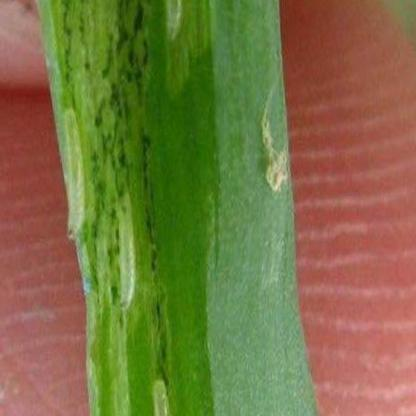whorl-maggot: (59, 101, 91, 244), (112, 186, 139, 319)
